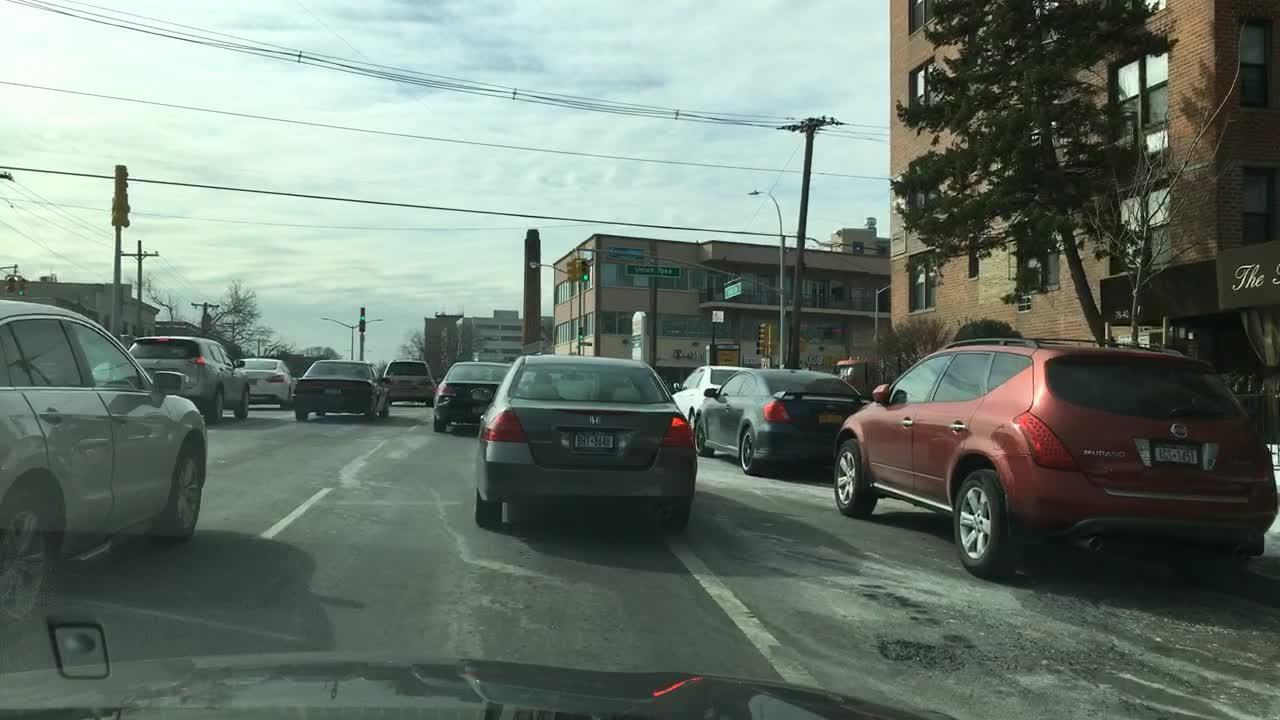Honda: (586, 412, 603, 428)
Nissan: (1167, 416, 1191, 444)
